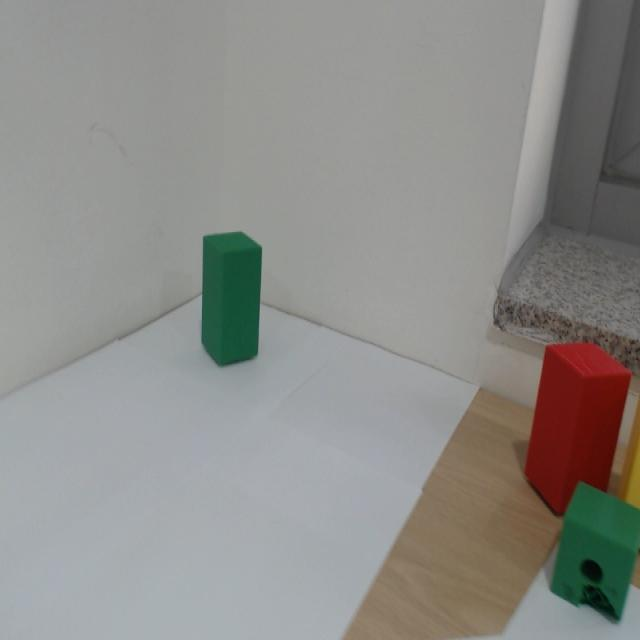cube: (156, 177, 284, 429)
